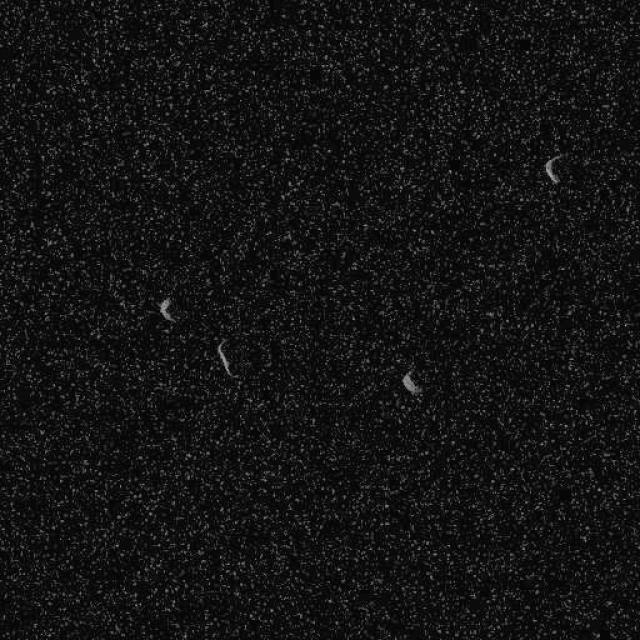D2: (215, 339, 239, 379), (542, 152, 562, 184), (400, 369, 422, 395), (156, 296, 176, 322)
